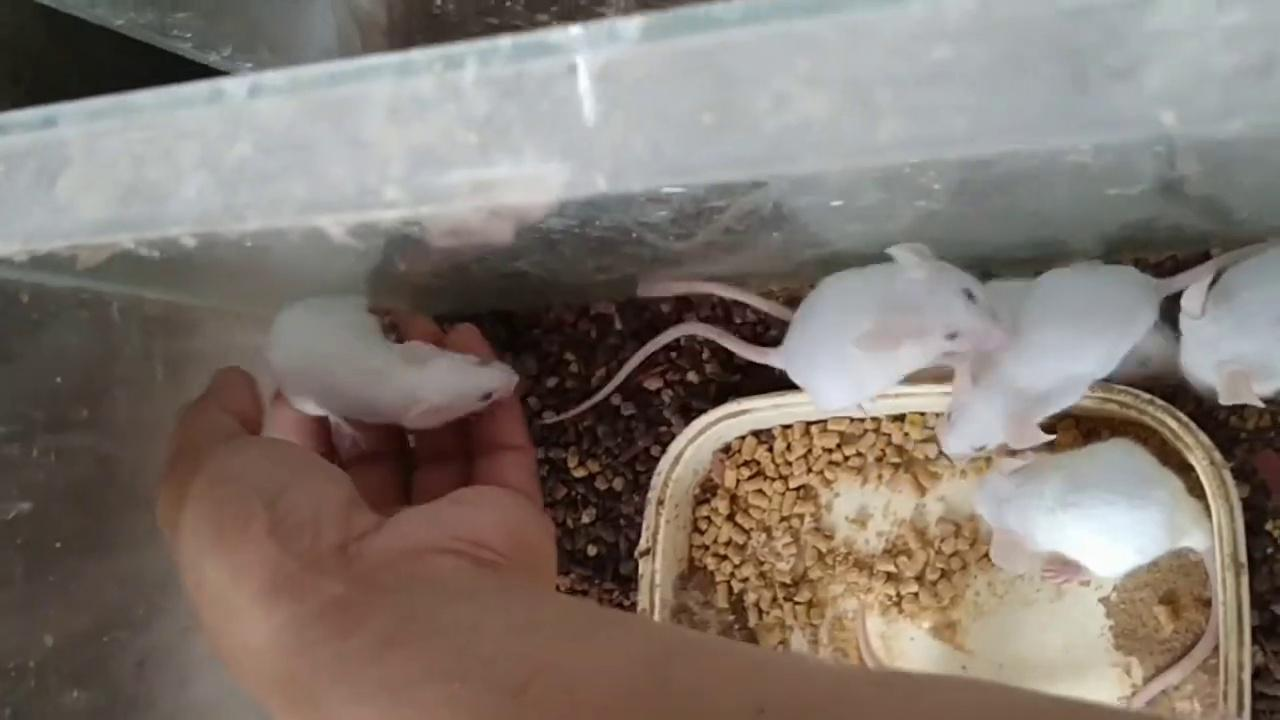rat: (542, 242, 1008, 436), (937, 241, 1280, 456), (268, 297, 522, 431)
